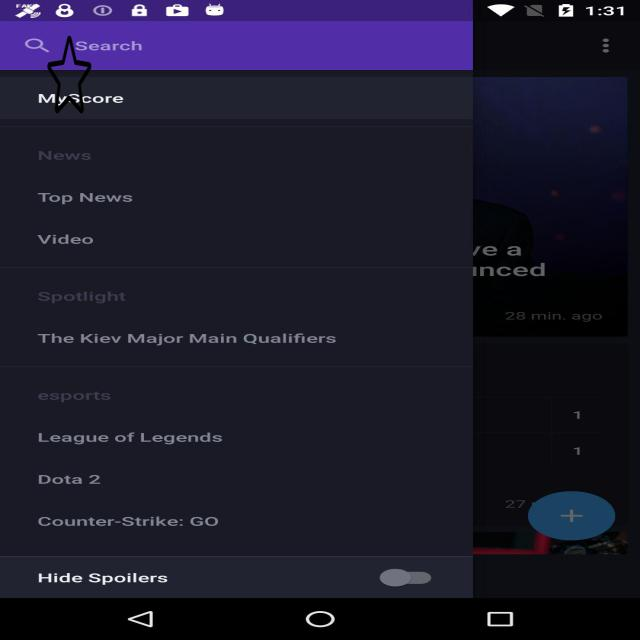forced continuity: (48, 34, 92, 115)
